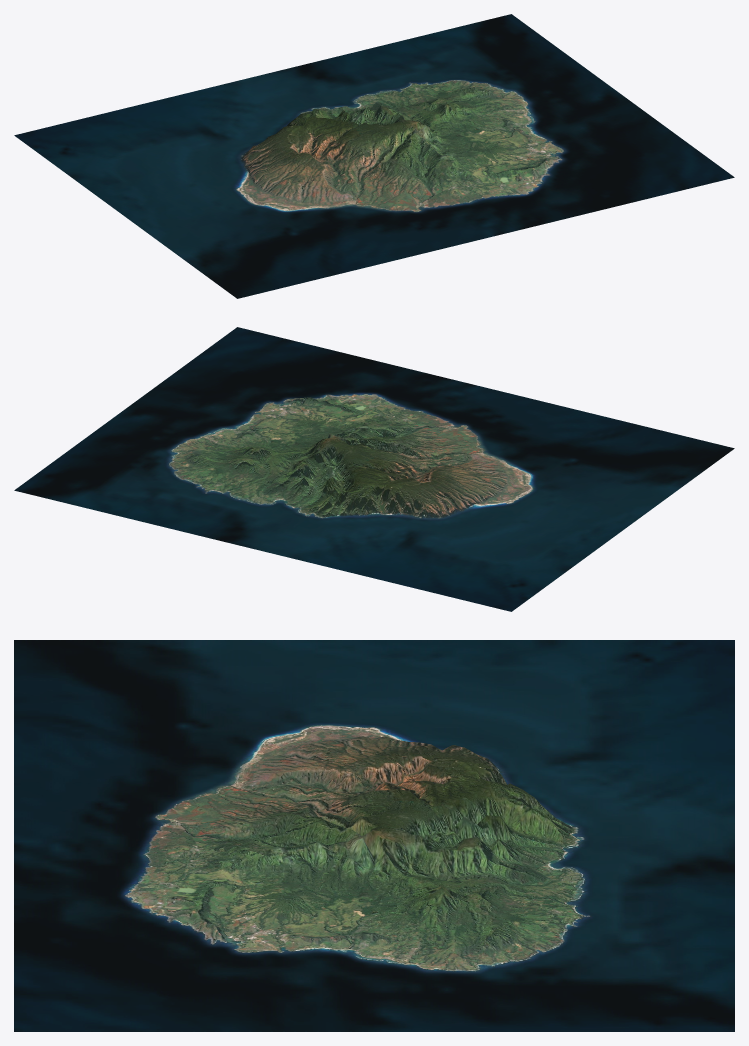
File: Kauai Hawaii.obj
3 views of the same model, one above another, from view 1: azimuth 30°, elevation 25°; view 2: azimuth 150°, elevation 25°; view 3: azimuth 270°, elevation 25° (orthographic). The views are drawn at different scales.
Visible parts, largest first — view 1: EXPORT_BING_SAT_WM_EXPORT_BING_SAT_WM.002; view 2: EXPORT_BING_SAT_WM_EXPORT_BING_SAT_WM.002; view 3: EXPORT_BING_SAT_WM_EXPORT_BING_SAT_WM.002.
Part boxes in pixels (x1=…): EXPORT_BING_SAT_WM_EXPORT_BING_SAT_WM.002: x1=14, y1=14, x2=734, y2=298; EXPORT_BING_SAT_WM_EXPORT_BING_SAT_WM.002: x1=14, y1=327, x2=734, y2=611; EXPORT_BING_SAT_WM_EXPORT_BING_SAT_WM.002: x1=14, y1=640, x2=734, y2=1031.
Bounding box in the file's own units: 88055 × 3786 × 68488.
1 material, 1 textured.
